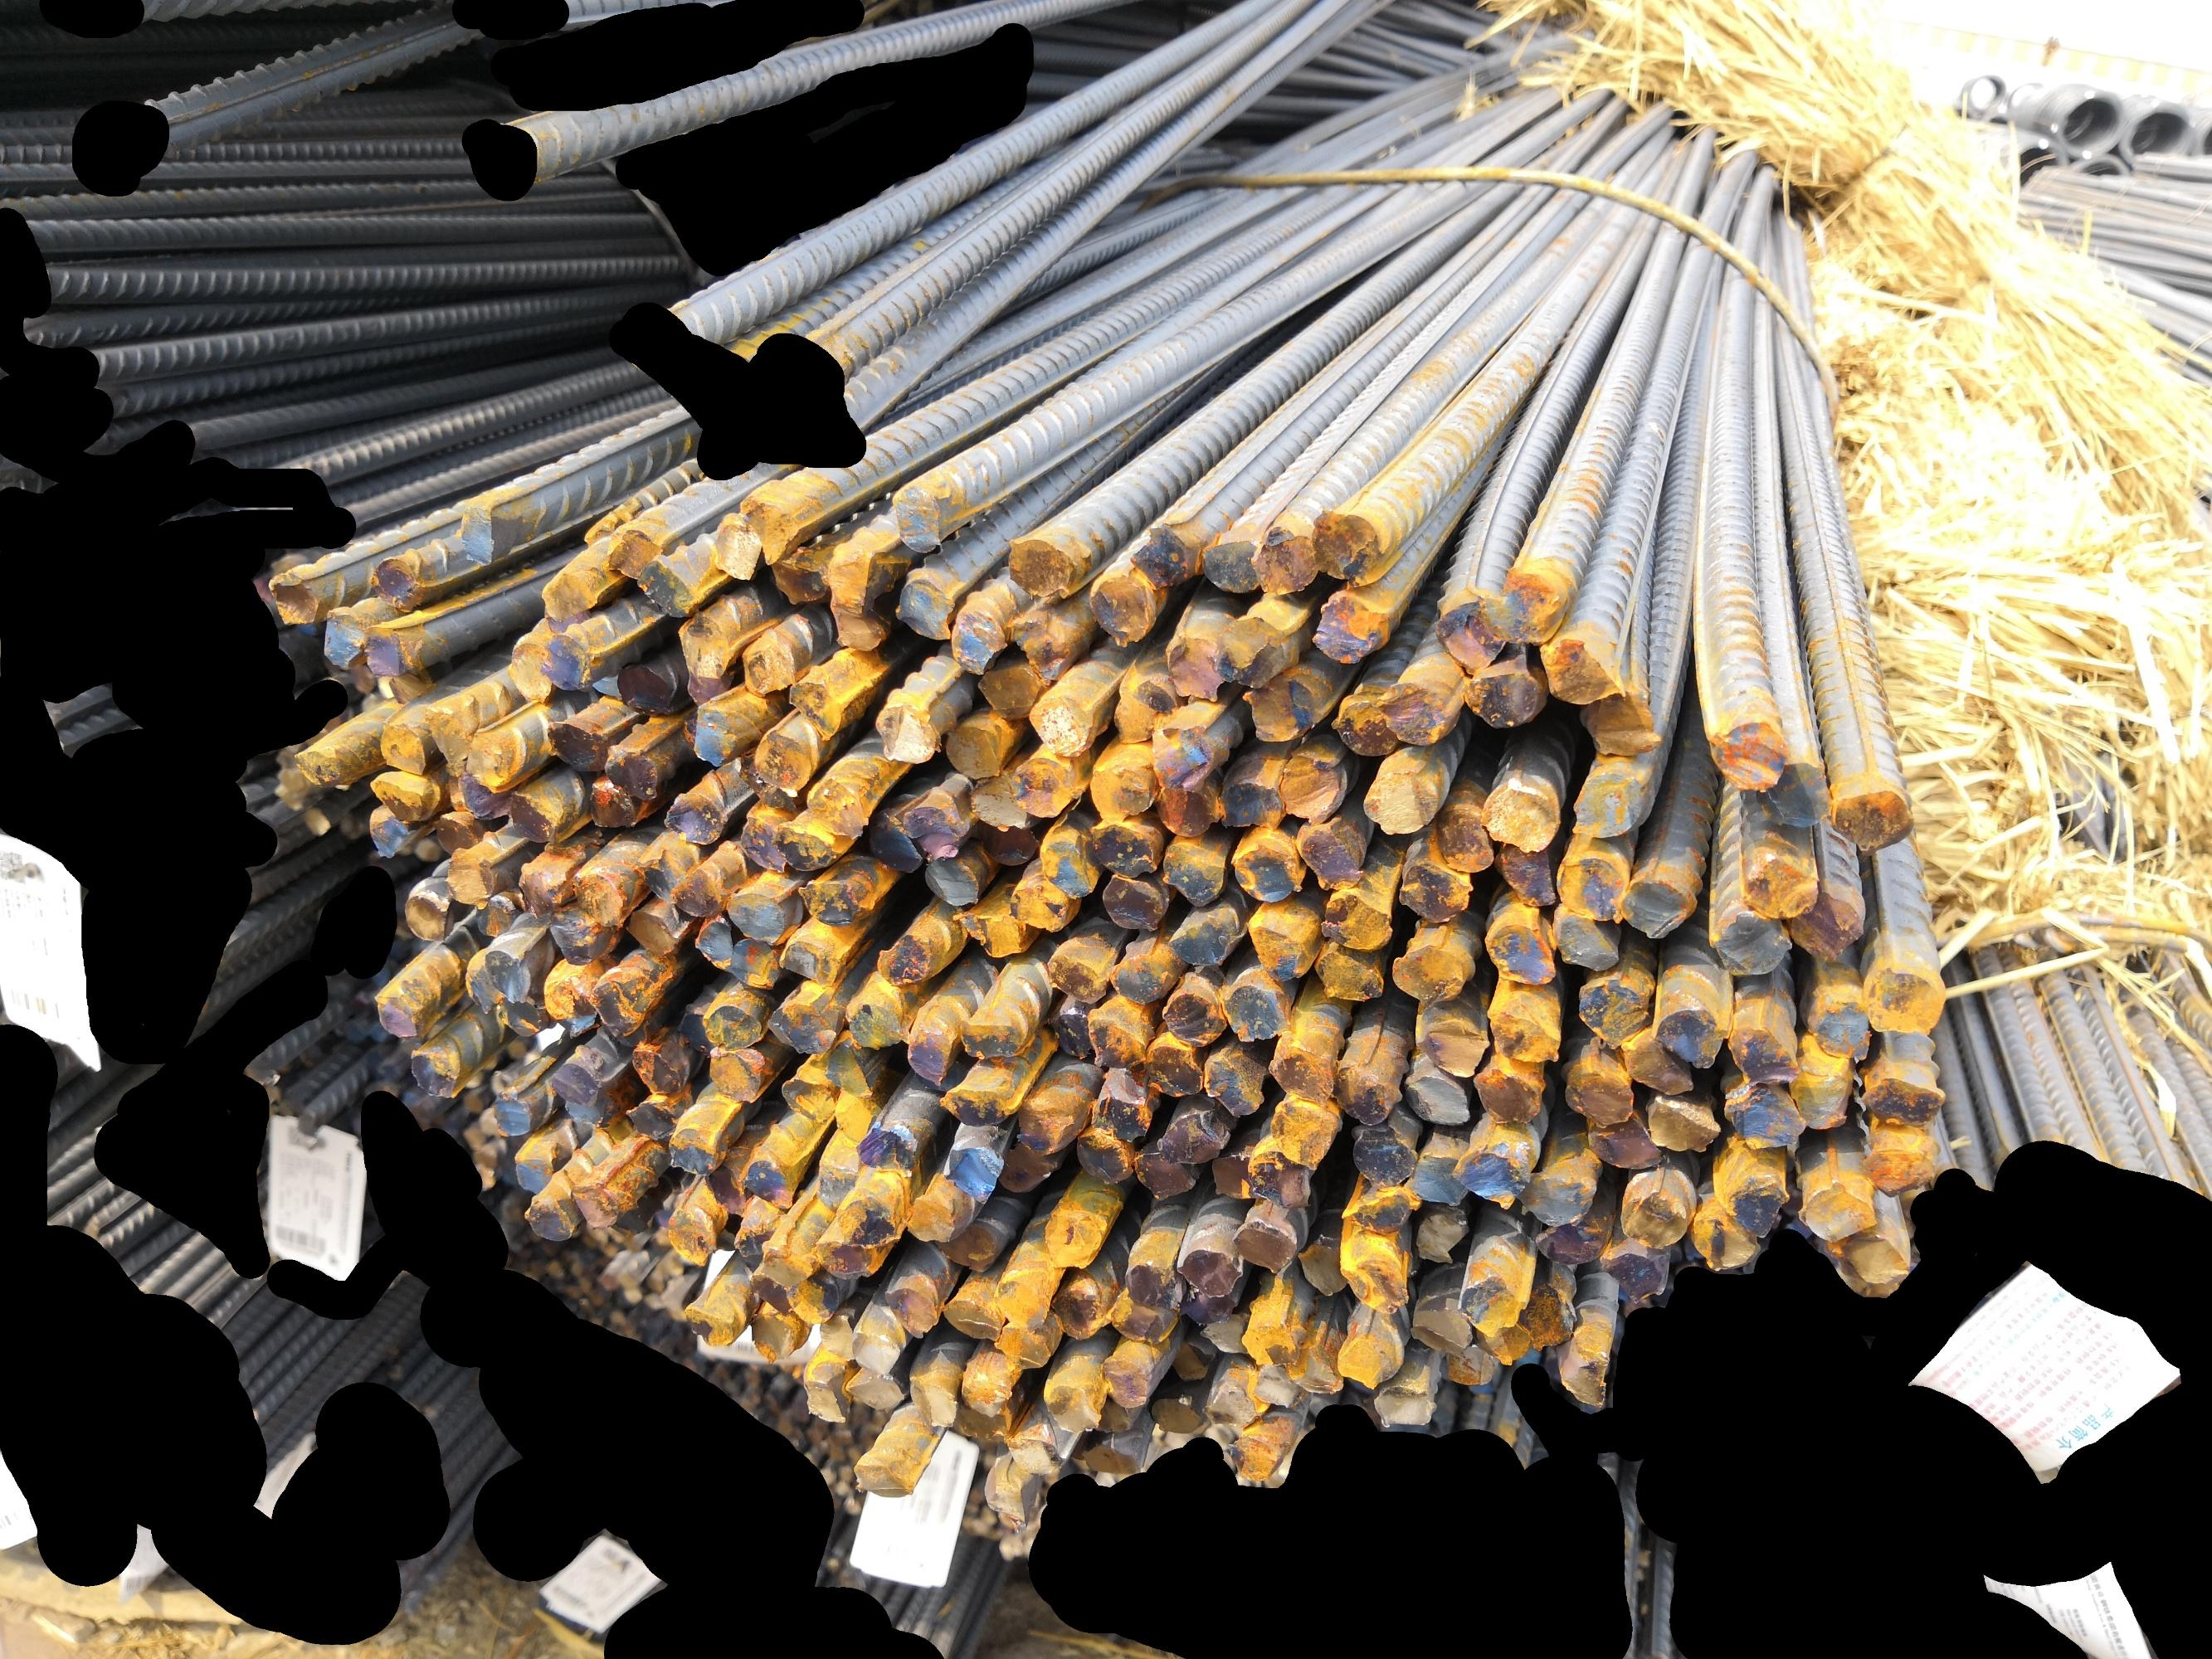bar: (1532, 630, 1627, 707), (1478, 571, 1569, 645), (1577, 680, 1664, 757), (1705, 716, 1789, 794), (1474, 781, 1562, 854), (1860, 964, 1948, 1036), (1307, 508, 1384, 588), (1827, 786, 1919, 851), (1720, 1080, 1805, 1151), (1309, 588, 1388, 664), (1433, 595, 1507, 674), (1360, 763, 1440, 835), (1708, 909, 1793, 976), (1575, 973, 1649, 1048), (1788, 888, 1865, 961), (1214, 614, 1288, 689), (1449, 1143, 1532, 1210), (1754, 758, 1830, 830), (1616, 870, 1693, 941), (1394, 857, 1474, 924), (1511, 1167, 1600, 1228), (1552, 849, 1624, 924), (1240, 674, 1317, 742), (1483, 917, 1560, 986), (1649, 1005, 1729, 1071), (1738, 854, 1819, 920), (1269, 1100, 1342, 1171), (1003, 534, 1078, 605), (1328, 688, 1403, 758), (1390, 941, 1469, 1007), (1006, 610, 1077, 683), (1796, 1179, 1877, 1243), (1413, 1012, 1489, 1080), (1718, 1169, 1791, 1239), (1086, 570, 1152, 647), (1614, 1034, 1696, 1097), (1274, 752, 1342, 825), (1724, 1020, 1800, 1087), (1110, 672, 1179, 744), (736, 494, 802, 568), (1827, 1229, 1912, 1287), (1006, 753, 1080, 820), (1858, 1073, 1946, 1128), (1201, 1046, 1267, 1119), (1292, 825, 1365, 892), (1484, 1004, 1563, 1064), (1786, 1061, 1854, 1131), (1331, 1060, 1402, 1127), (1248, 526, 1315, 597), (1462, 669, 1543, 727), (1857, 1140, 1938, 1199), (1493, 834, 1557, 908), (1158, 839, 1227, 908), (1128, 522, 1196, 591), (1147, 722, 1215, 792), (1024, 693, 1096, 759), (1546, 908, 1620, 972), (1374, 681, 1445, 747), (1455, 1273, 1527, 1338), (1229, 841, 1303, 903), (751, 722, 812, 797), (1318, 890, 1393, 951), (1349, 1125, 1419, 1190), (1586, 1114, 1665, 1171), (1644, 1096, 1723, 1153), (1337, 1250, 1408, 1314), (1616, 1187, 1689, 1249), (801, 774, 870, 839), (1470, 1063, 1542, 1126), (1218, 982, 1291, 1044), (1569, 776, 1638, 841), (673, 608, 736, 679), (1164, 630, 1225, 703), (1041, 1204, 1108, 1270), (1245, 1146, 1313, 1212), (585, 973, 653, 1038), (1563, 1065, 1634, 1127), (948, 606, 1009, 677), (1690, 1210, 1761, 1272), (739, 628, 799, 700), (733, 745, 797, 812), (1085, 761, 1153, 823), (1267, 1040, 1335, 1102), (1434, 805, 1494, 874), (1157, 990, 1228, 1049), (1244, 917, 1308, 982), (891, 577, 955, 642), (1809, 994, 1872, 1060), (972, 665, 1049, 720), (872, 702, 940, 763), (937, 1144, 1006, 1204), (1086, 823, 1157, 880), (1514, 1284, 1575, 1351), (1099, 871, 1167, 931), (1339, 1187, 1422, 1236), (1157, 1105, 1225, 1164), (820, 542, 875, 616), (1401, 1072, 1472, 1129), (1596, 1247, 1668, 1303), (1532, 1214, 1608, 1267), (631, 557, 695, 620), (1084, 1007, 1145, 1072), (1228, 1216, 1297, 1273), (1013, 1095, 1076, 1157), (1165, 912, 1235, 967), (1312, 948, 1383, 1003), (1153, 780, 1221, 837), (1407, 1301, 1477, 1357), (860, 811, 923, 873), (967, 771, 1029, 834), (786, 674, 845, 738), (1106, 1288, 1174, 1345), (1035, 837, 1096, 899), (928, 1219, 999, 1273), (950, 907, 1024, 959), (661, 789, 728, 845), (891, 482, 944, 553), (709, 510, 762, 582), (1215, 778, 1284, 832), (1406, 1150, 1470, 1208), (541, 717, 607, 773), (545, 906, 608, 965), (1333, 1331, 1396, 1389), (1004, 879, 1071, 934), (567, 868, 626, 930), (1198, 538, 1261, 596), (721, 888, 785, 946), (794, 877, 865, 928), (1468, 1316, 1535, 1370), (899, 803, 962, 861), (1172, 1247, 1244, 1297), (1143, 1039, 1203, 1097), (823, 595, 885, 652), (770, 820, 838, 873), (1131, 1147, 1196, 1201), (1108, 951, 1174, 1005), (1206, 1147, 1269, 1204), (764, 550, 827, 606), (973, 815, 1041, 866), (601, 526, 665, 580), (614, 660, 674, 718), (777, 998, 837, 1055), (840, 998, 907, 1048), (994, 1141, 1059, 1194), (540, 966, 598, 1024), (1050, 1283, 1108, 1341), (942, 722, 1001, 780), (419, 701, 470, 766), (778, 1268, 839, 1324), (1040, 1378, 1102, 1433), (663, 1205, 716, 1268), (736, 809, 788, 873), (943, 1396, 1016, 1442), (936, 1085, 1013, 1128), (506, 787, 563, 846), (875, 932, 933, 988), (599, 744, 659, 800), (879, 1285, 939, 1340), (851, 1125, 921, 1172), (1044, 953, 1108, 1005), (1074, 1127, 1132, 1185), (703, 1048, 762, 1104), (535, 630, 589, 691), (506, 639, 556, 704), (699, 1000, 764, 1050), (1284, 1342, 1346, 1394), (823, 1038, 875, 1101), (266, 568, 320, 628), (445, 844, 495, 909), (811, 1234, 879, 1282), (665, 1122, 726, 1175), (982, 1471, 1035, 1531), (691, 694, 735, 767), (1412, 1205, 1464, 1267), (1089, 1092, 1152, 1141), (992, 1275, 1050, 1330), (665, 864, 725, 917), (1558, 1349, 1611, 1408), (1122, 1258, 1183, 1309), (1237, 1320, 1303, 1368), (777, 937, 840, 987), (736, 1155, 793, 1210), (1294, 1239, 1348, 1297), (905, 1371, 958, 1430), (904, 1021, 952, 1086), (1096, 1352, 1151, 1408), (318, 607, 364, 674), (1225, 1430, 1284, 1482), (461, 727, 507, 795), (456, 770, 517, 820), (538, 572, 599, 621), (991, 1323, 1053, 1372), (480, 946, 533, 1003), (956, 1016, 1023, 1061), (726, 936, 781, 990), (584, 777, 641, 830), (513, 864, 565, 921), (921, 854, 979, 906), (939, 1295, 1001, 1343), (1201, 1382, 1263, 1430), (404, 1046, 459, 1100), (366, 556, 418, 612), (622, 907, 680, 958), (846, 1457, 914, 1500), (366, 774, 425, 824), (1176, 1280, 1240, 1326), (631, 852, 687, 904), (831, 1087, 883, 1142), (779, 1076, 837, 1126), (1249, 1360, 1308, 1408), (377, 719, 426, 776), (1372, 1382, 1437, 1426), (680, 1300, 738, 1349), (628, 1044, 683, 1095), (814, 1156, 860, 1216), (958, 1368, 1013, 1418), (1199, 1306, 1255, 1356), (846, 1326, 903, 1375), (701, 1159, 748, 1218), (368, 990, 421, 1042), (365, 803, 413, 859), (567, 1180, 620, 1230), (400, 890, 450, 944), (903, 1195, 957, 1245), (747, 1306, 794, 1363), (756, 1242, 812, 1289), (798, 1371, 848, 1424), (521, 1193, 575, 1242), (1078, 1438, 1141, 1479), (621, 1098, 680, 1143), (678, 660, 735, 705), (457, 504, 498, 567), (746, 1267, 797, 1318), (843, 1374, 908, 1413), (1045, 1010, 1094, 1061), (430, 809, 482, 857), (460, 959, 507, 1013), (1004, 1435, 1065, 1476), (560, 1087, 619, 1129), (1439, 1342, 1495, 1386), (693, 916, 734, 975), (362, 623, 406, 679), (491, 991, 543, 1038), (548, 1058, 598, 1106), (1085, 1391, 1137, 1438), (672, 1005, 719, 1054), (292, 742, 340, 790), (538, 600, 594, 639), (470, 893, 519, 937), (1167, 1338, 1216, 1382), (1148, 1394, 1202, 1434), (489, 1089, 532, 1138), (509, 1150, 555, 1195), (386, 665, 435, 706), (818, 1311, 858, 1361), (732, 1220, 778, 1260), (440, 757, 470, 814), (577, 513, 617, 554), (587, 666, 623, 702)
